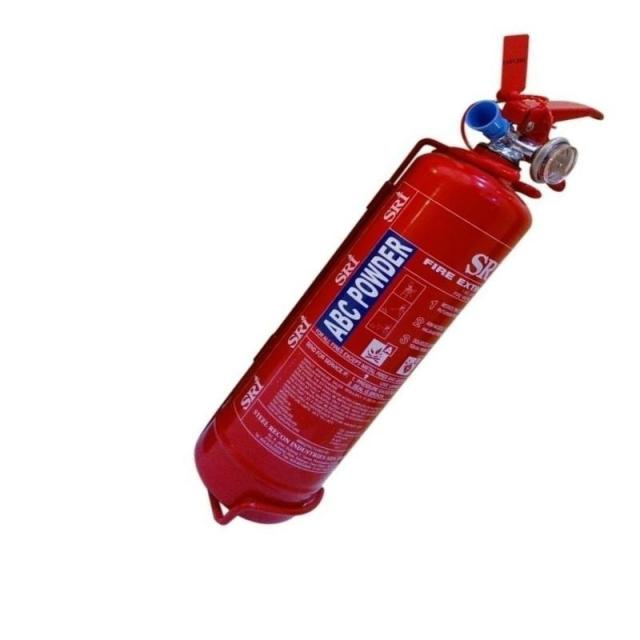fire_extinguisher: (186, 26, 608, 532)
